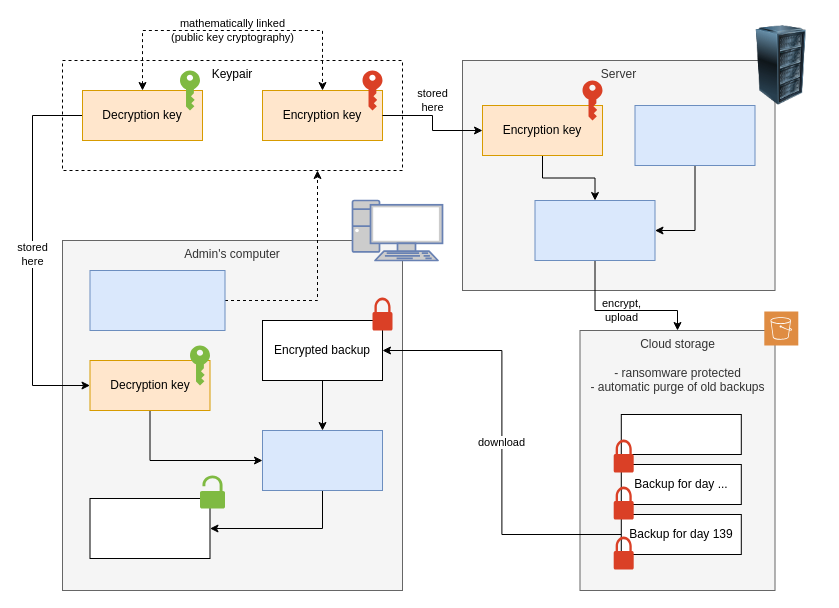
This 839x608 diagram has some shape labels left out. The centre of each missing label's shape, as x and y in pixels:
"Backup for day 125" belongs at (x=680, y=434).
"Decrypted backup" belongs at (x=149, y=528).
"Generate keypair here (so servers don't know the decryption key)" belongs at (x=157, y=300).
"Your services" belongs at (x=694, y=135).
"µbackup" belongs at (x=594, y=230).
"µbackup decrypt" belongs at (x=322, y=460).
